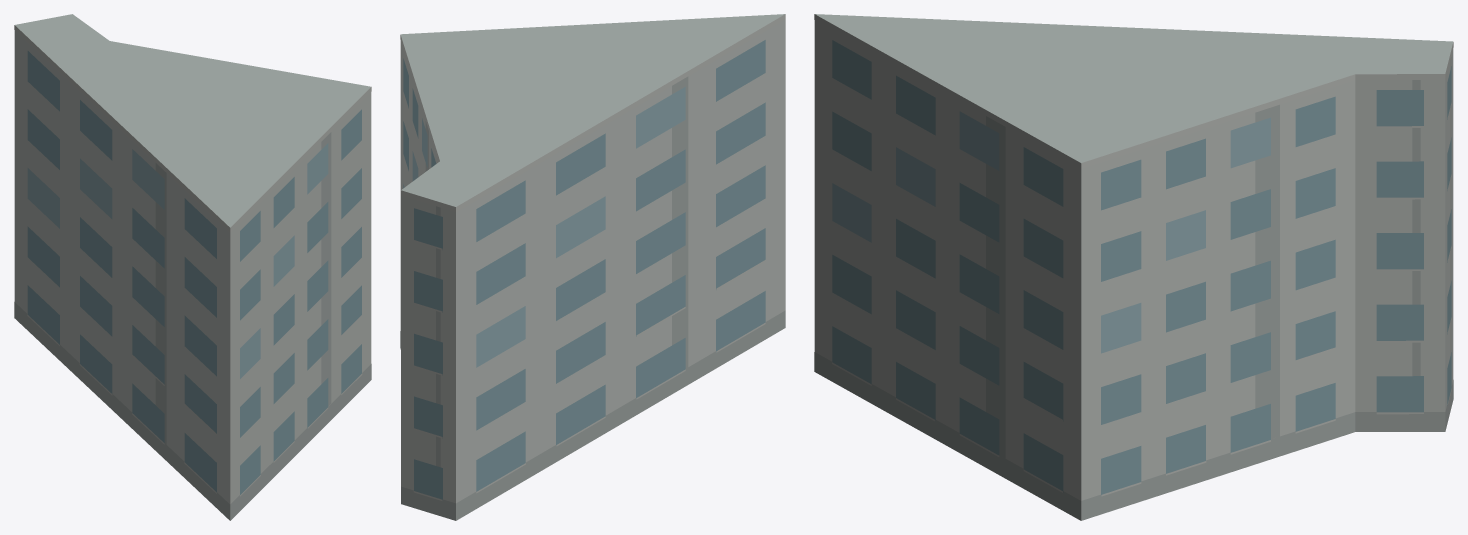
The model's file is residential-b53f51f4-9f0d-4e75-a2a6-aed042beb0ce.glb.
3 renders of one model, left to right at view 1: azimuth 30°, elevation 25°; view 2: azimuth 150°, elevation 25°; view 3: azimuth 270°, elevation 25°, orthographic. The views are drawn at different scales.
Parts seen in each view (by area): view 1: residential-b53f51f4-9f0d-4e75-a2a6-aed042beb0ce.tmp; view 2: residential-b53f51f4-9f0d-4e75-a2a6-aed042beb0ce.tmp; view 3: residential-b53f51f4-9f0d-4e75-a2a6-aed042beb0ce.tmp.
Part boxes in pixels (x1=…): residential-b53f51f4-9f0d-4e75-a2a6-aed042beb0ce.tmp: x1=14, y1=14, x2=371, y2=520; residential-b53f51f4-9f0d-4e75-a2a6-aed042beb0ce.tmp: x1=400, y1=14, x2=785, y2=520; residential-b53f51f4-9f0d-4e75-a2a6-aed042beb0ce.tmp: x1=814, y1=14, x2=1453, y2=520.
Bounding box in the file's own units: 13.11 × 14.65 × 23.72.
